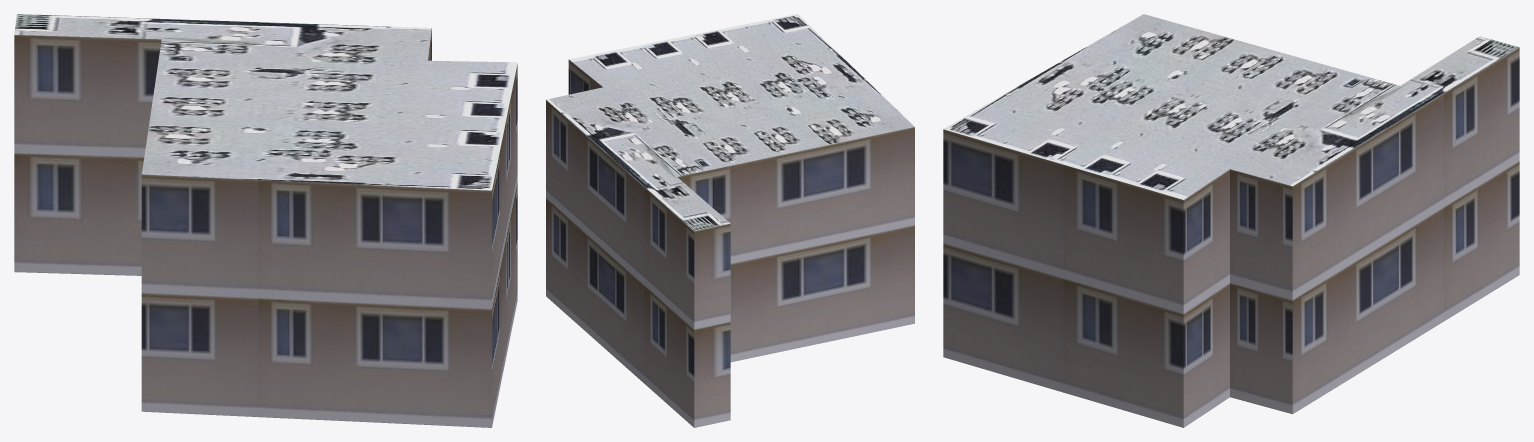
The model's file is ResTex__3940.fbx.
3 views of the same model, side by side, from view 1: azimuth 30°, elevation 25°; view 2: azimuth 150°, elevation 25°; view 3: azimuth 270°, elevation 25° (orthographic). The views are drawn at different scales.
Visible parts, largest first — view 1: CityEngineMaterial_21_m, CityEngineMaterial_m; view 2: CityEngineMaterial_21_m, CityEngineMaterial_m; view 3: CityEngineMaterial_21_m, CityEngineMaterial_m.
Boxes of the visible parts, <box> form: CityEngineMaterial_21_m: <box>14,28,517,427</box>; CityEngineMaterial_m: <box>14,14,517,190</box>; CityEngineMaterial_21_m: <box>546,59,914,427</box>; CityEngineMaterial_m: <box>546,14,914,231</box>; CityEngineMaterial_21_m: <box>943,47,1519,427</box>; CityEngineMaterial_m: <box>944,14,1519,199</box>.
Bounding box in the file's own units: 10.5 × 6 × 13.74.
2 materials, 2 textured.
